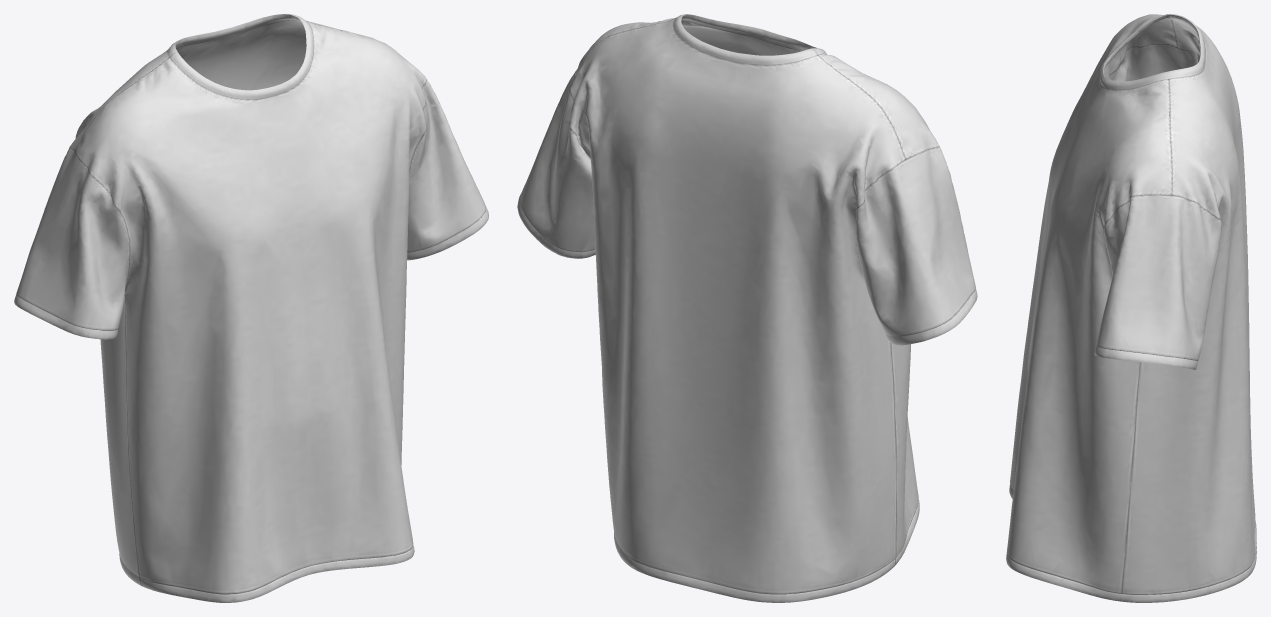
Rendered from tshirt-model.glb.
3 views of the same model, side by side, from view 1: azimuth 30°, elevation 25°; view 2: azimuth 150°, elevation 25°; view 3: azimuth 270°, elevation 25° (orthographic). The views are drawn at different scales.
Parts seen in each view (by area): view 1: Object_2; view 2: Object_2; view 3: Object_2.
Boxes of the visible parts, <box> form: Object_2: <box>14,14,488,602</box>; Object_2: <box>517,14,977,602</box>; Object_2: <box>1006,14,1256,602</box>.
Bounding box in the file's own units: 0.637 × 0.7108 × 0.3212.
1 material, 1 textured.
